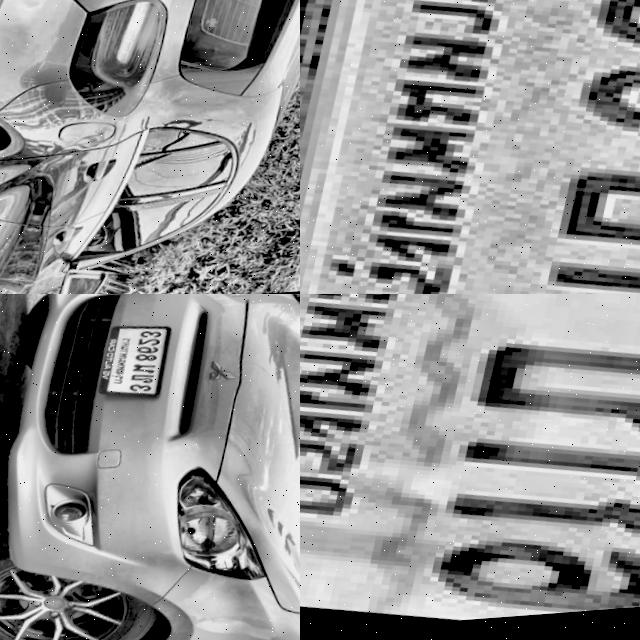license-plate: (300, 294, 640, 640), (300, 0, 640, 294), (98, 322, 176, 407)
